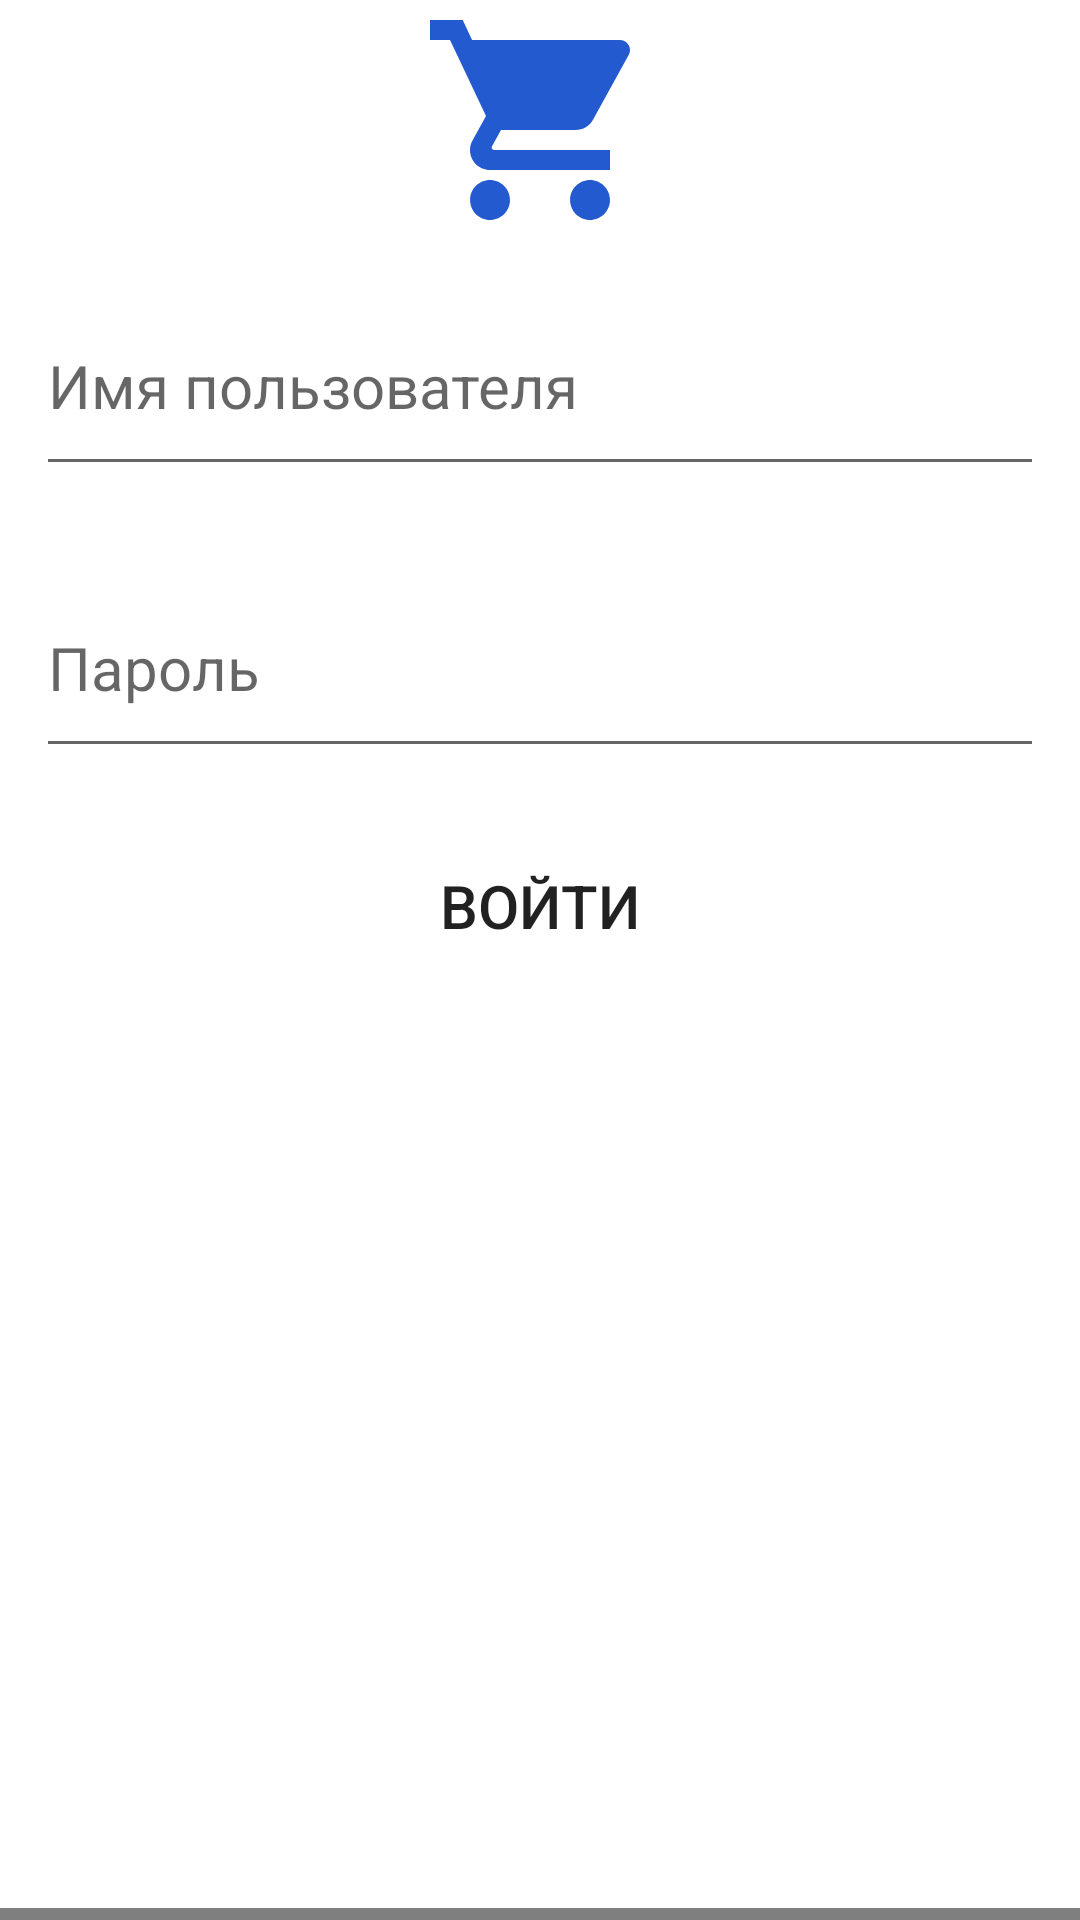

Icons on this 1080×1920 Android screen, each with its box as (x1=x1, y1=y1, x2=x2, y2=y2):
shopping cart: (x1=430, y1=20, x2=630, y2=220)
